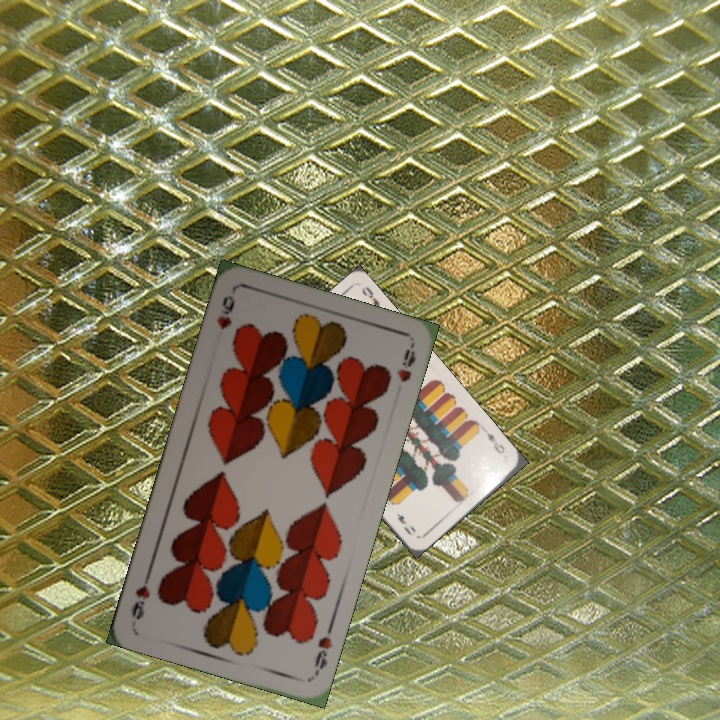E9: (483, 428, 507, 457)
H9: (310, 621, 335, 679), (213, 291, 238, 332)
